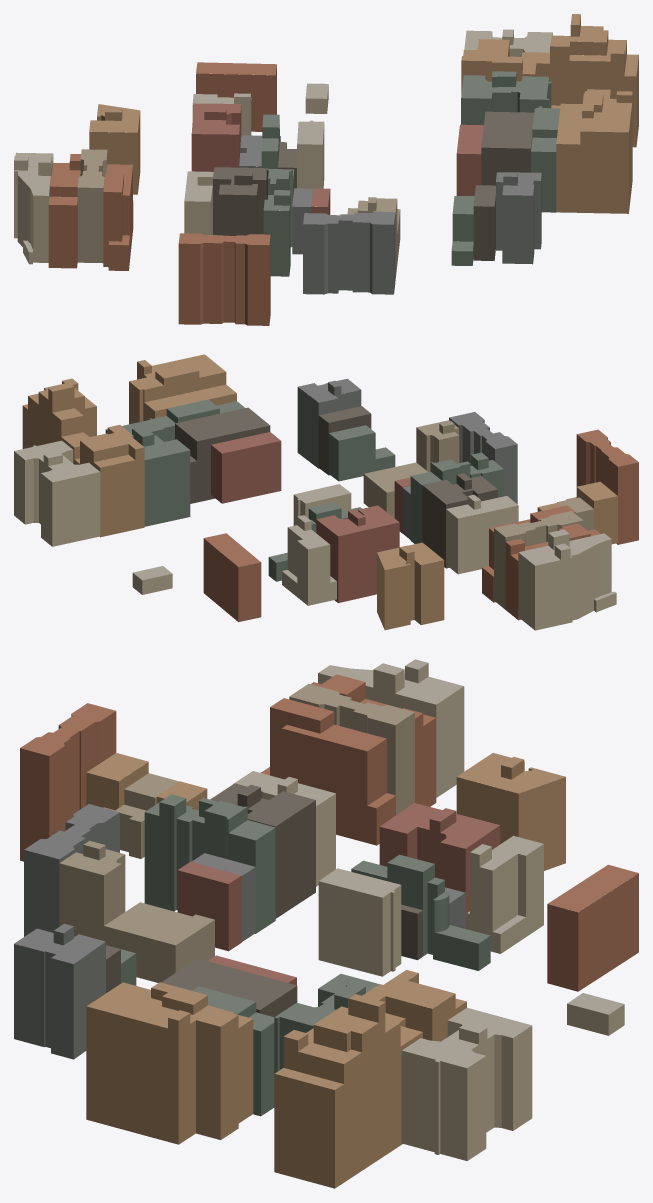
File: tile--3_3.glb
The picture shows the model from 3 angles, top to bottom: view 1: azimuth 30°, elevation 25°; view 2: azimuth 150°, elevation 25°; view 3: azimuth 270°, elevation 25°; orthographic projection. The views are drawn at different scales.
Parts seen in each view (by area): view 1: wall, roof; view 2: wall, roof; view 3: wall, roof.
Boxes of the visible parts, left/top/right/bottom form: wall: left=14, top=16, right=638, bottom=325; roof: left=14, top=14, right=638, bottom=252; wall: left=14, top=362, right=638, bottom=630; roof: left=14, top=354, right=638, bottom=600; wall: left=14, top=663, right=638, bottom=1188; roof: left=14, top=659, right=638, bottom=1089.
Bounding box in the file's own units: 202 × 34.94 × 128.
